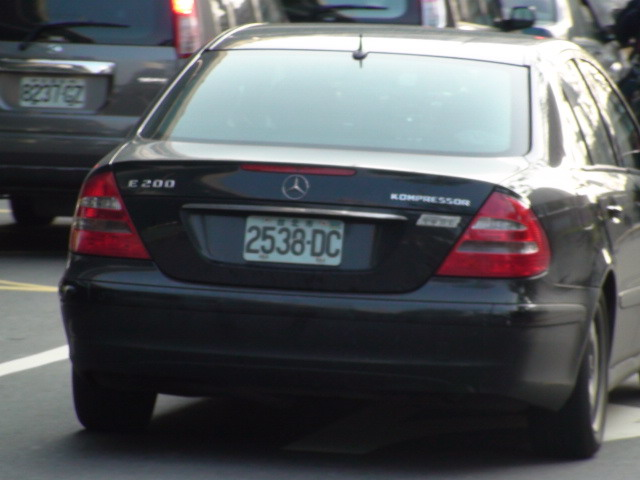plate: (241, 212, 346, 268), (15, 75, 88, 112)
